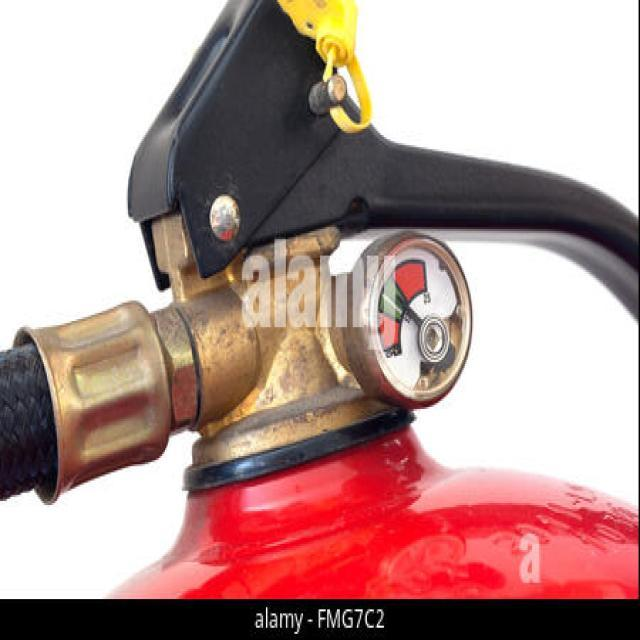pressure gauge: (330, 233, 471, 407)
